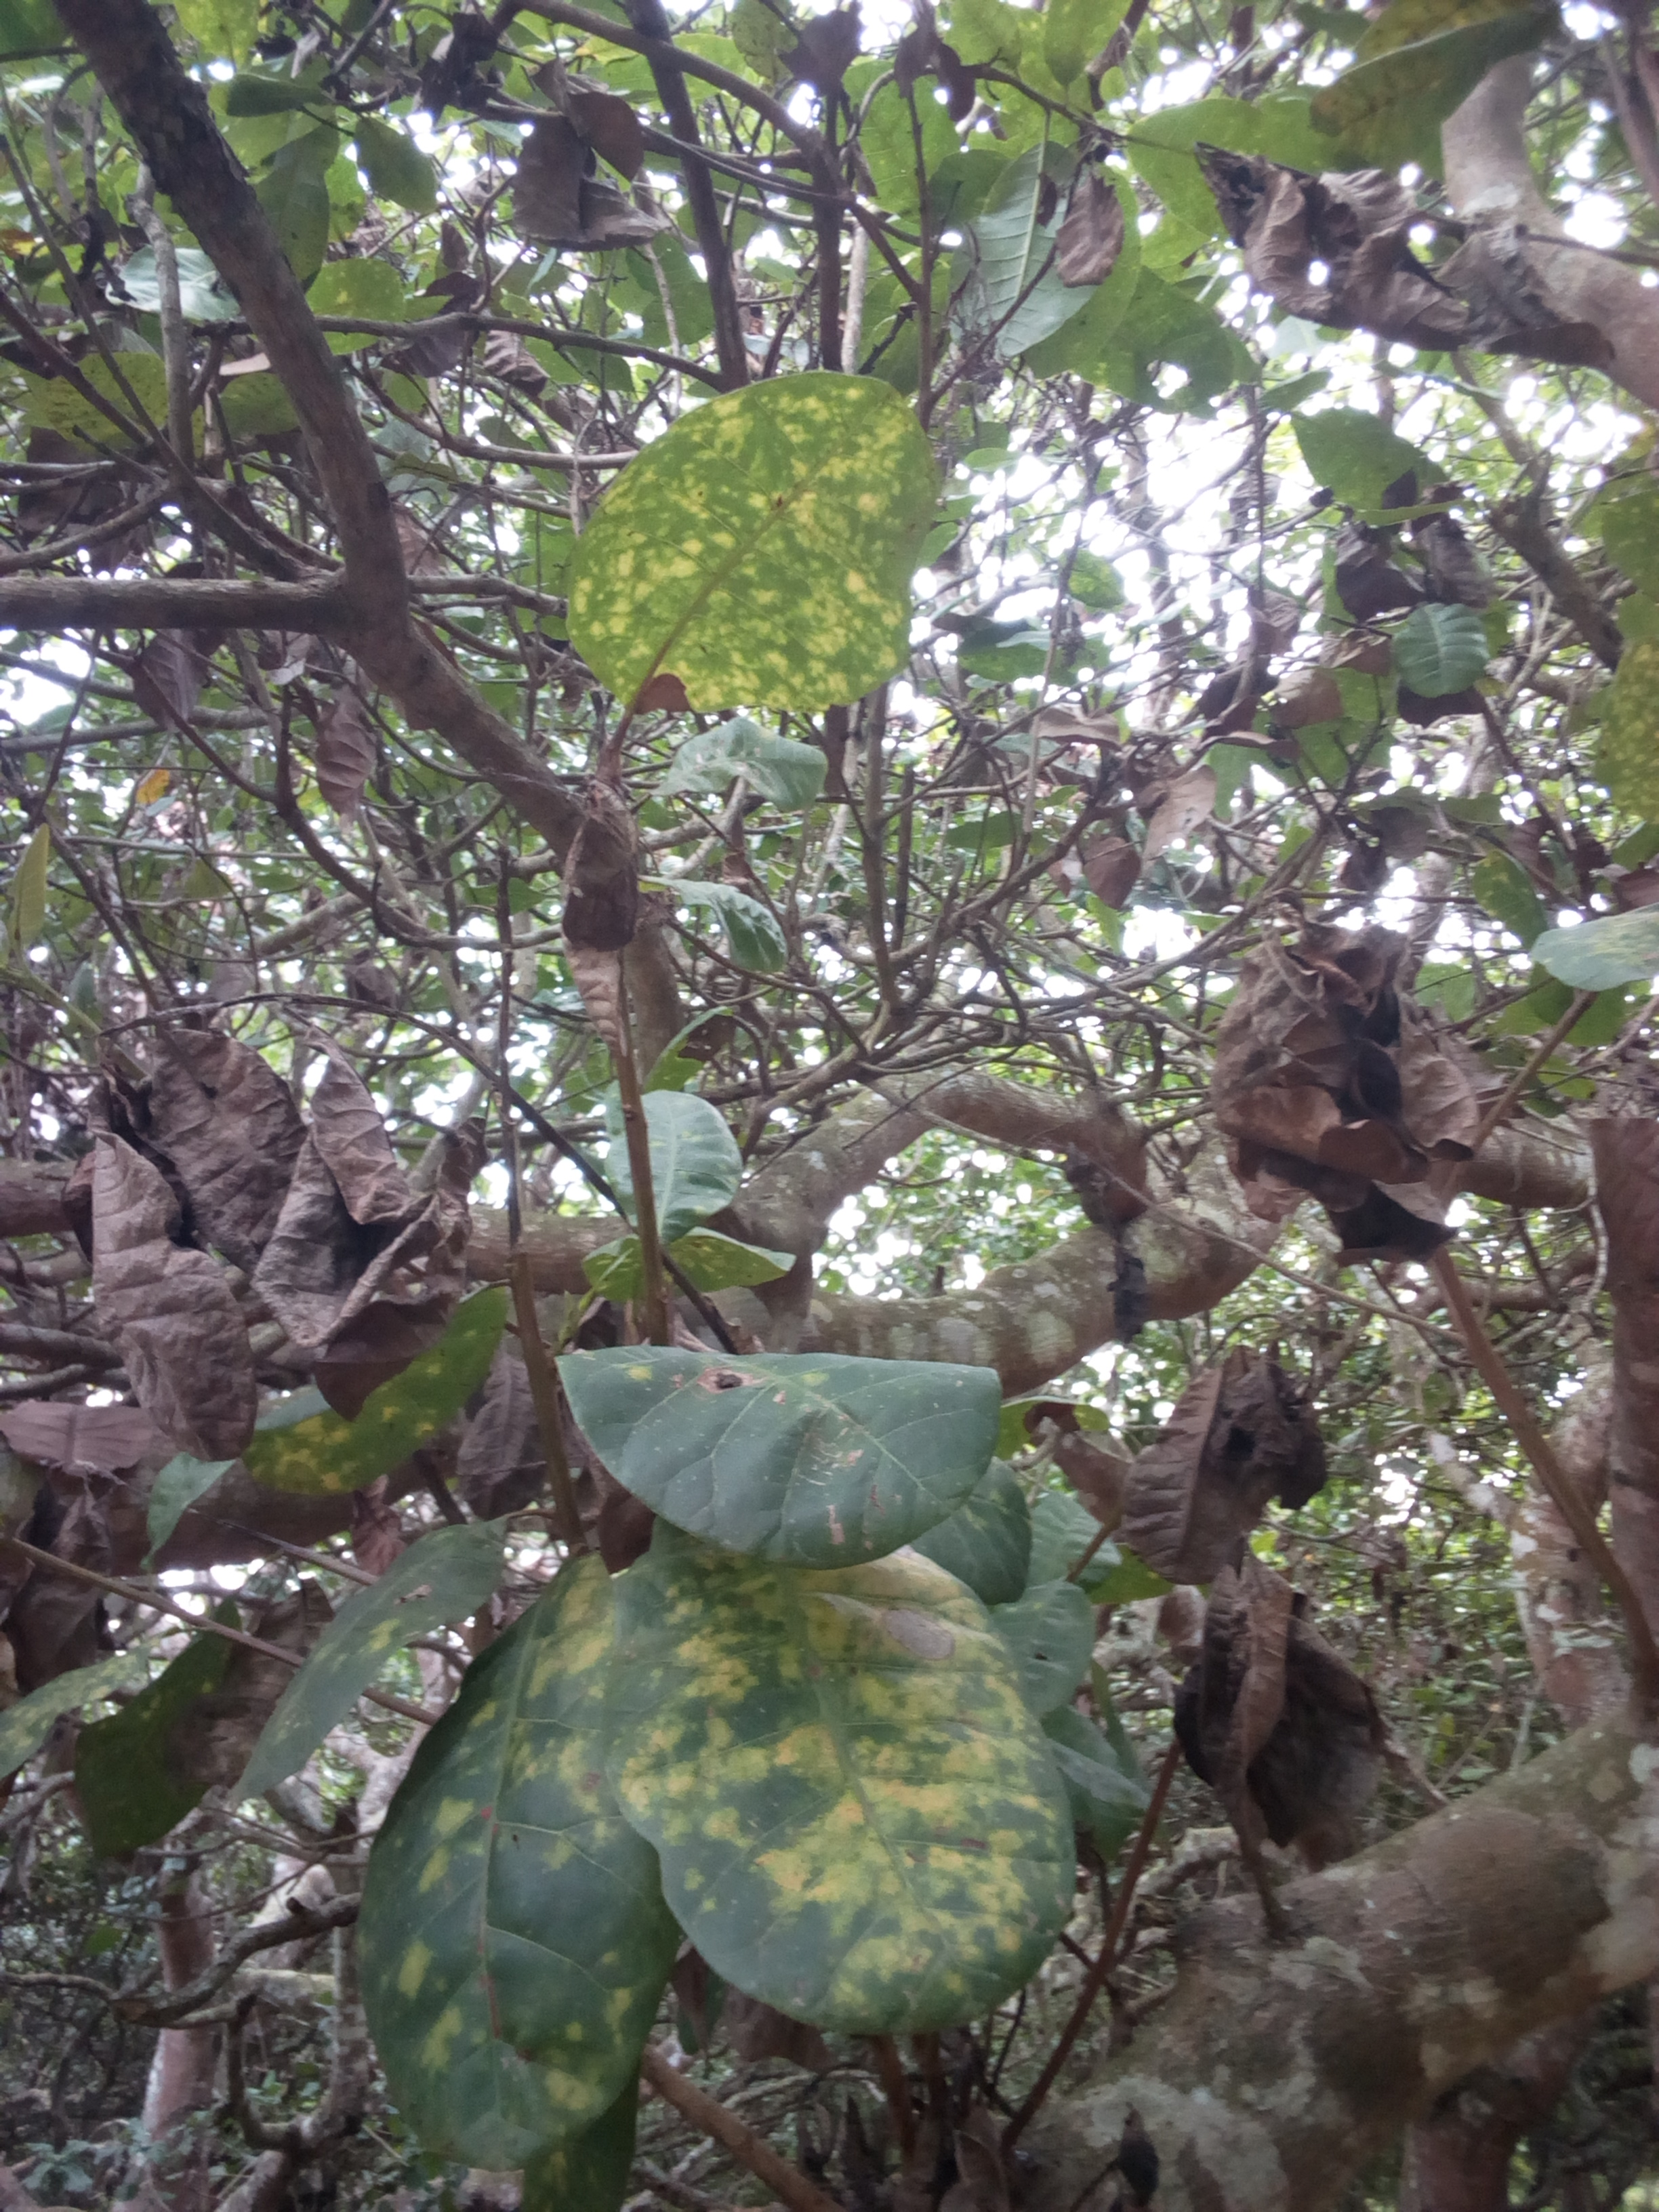Carence minérale: (640, 1529, 1070, 2031), (378, 1550, 640, 2167), (561, 368, 938, 705)
Dessèchement des bourgeons: (75, 1055, 427, 1346), (1216, 148, 1572, 347), (1220, 941, 1467, 1177), (1171, 1561, 1364, 1844), (1127, 1343, 1324, 1576)
